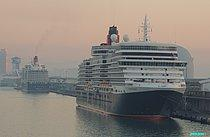Ship: (75, 27, 193, 124)
